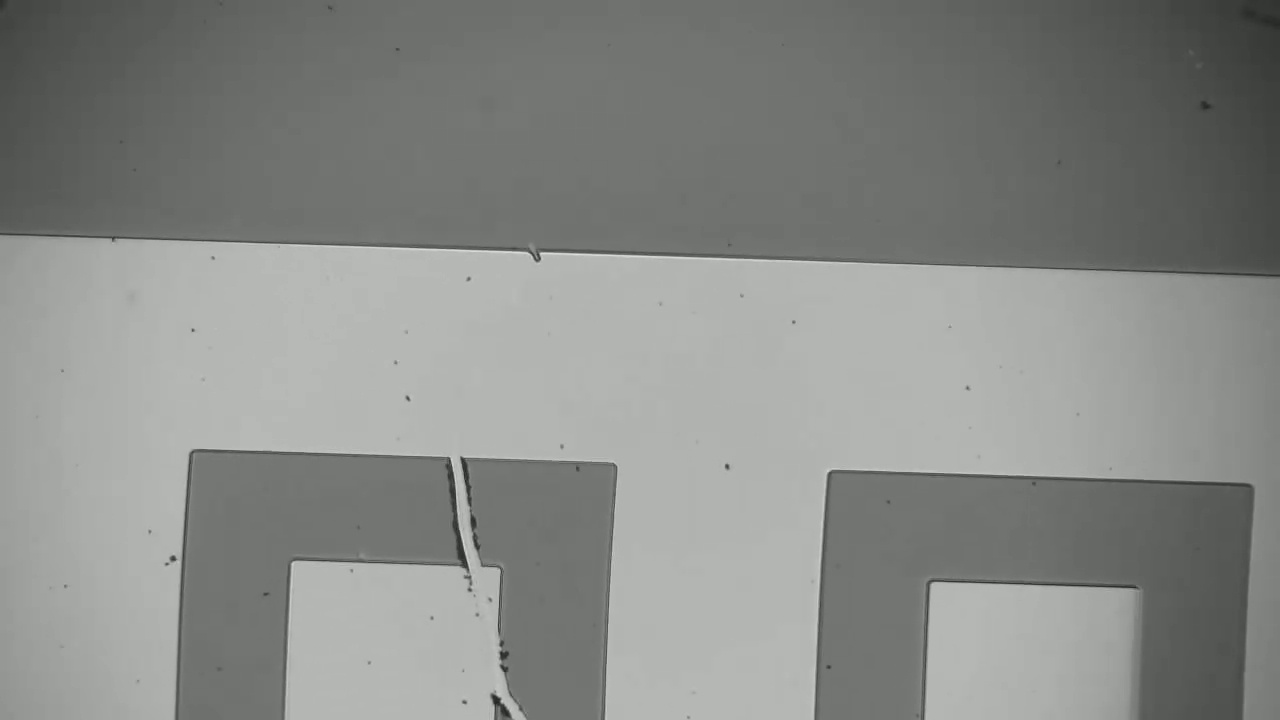Short_circuit: (428, 438, 505, 586)
